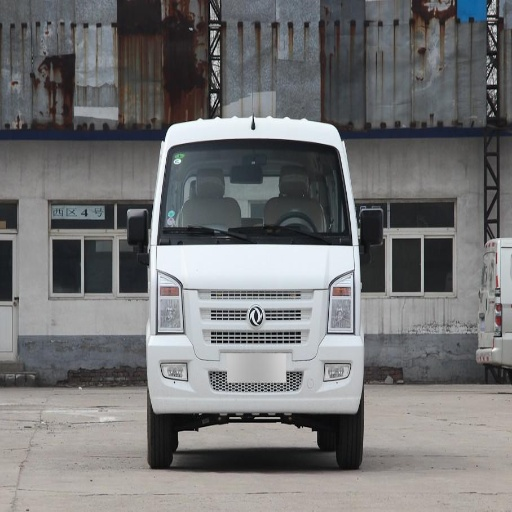front_bumper: (149, 287, 363, 413)
hood: (226, 246, 351, 289)
trunk: (159, 247, 243, 318)
